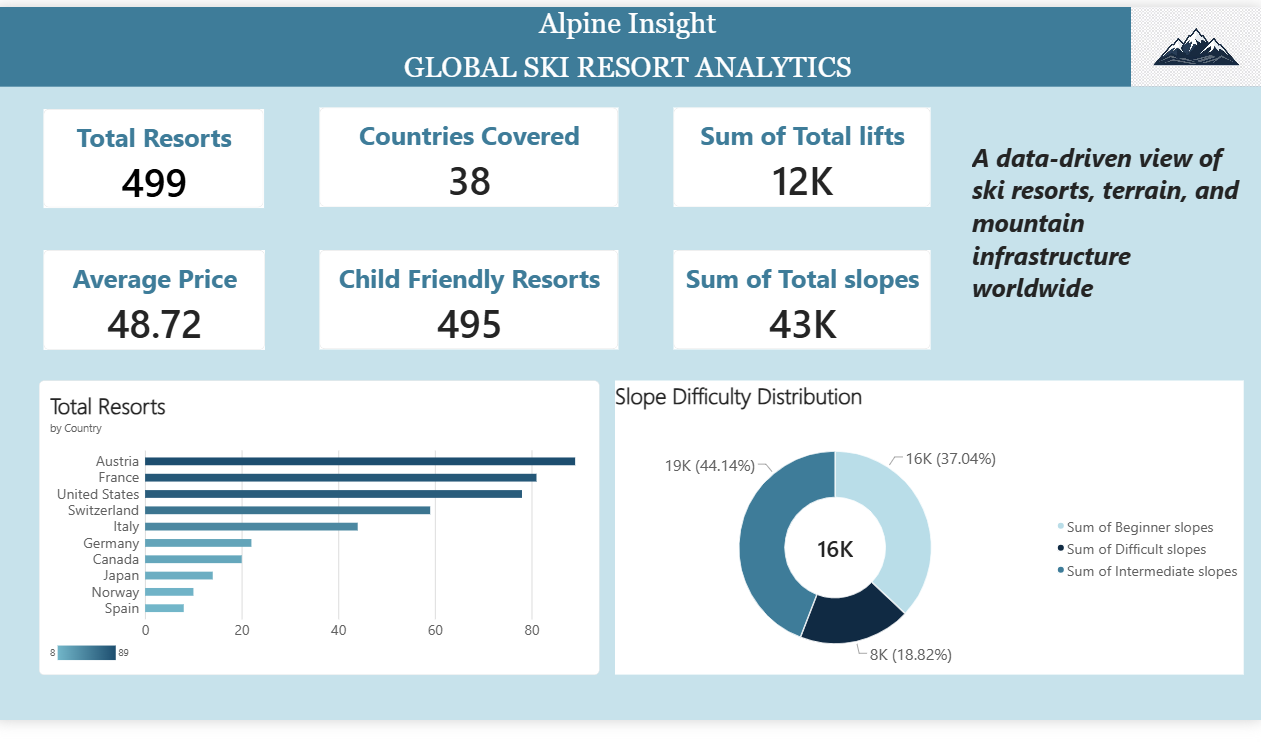

The page's visual inventory and layout, read from the dashboard file:
{"tool":"powerbi","page":{"name":"Overview","canvas":[1920,1080],"ordinal":0},"visuals":[{"type":"textbox","box":[0,0,1919.3,120.4],"z":0},{"type":"image","box":[1721.7,0,197.6,120.4],"z":1000},{"type":"cardVisual","fields":{"Data":["data_dictionary.Countries Covered"]},"box":[492,153.1,452.7,150.9],"z":3000},{"type":"cardVisual","fields":{"Data":["Sum(resorts.Total slopes)"]},"box":[1027.8,367.4,389.2,150.9],"z":4000},{"type":"cardVisual","fields":{"Data":["Sum(resorts.Total lifts)"]},"box":[1027.8,153.1,389.2,150.9],"z":5000},{"type":"cardVisual","fields":{"Data":["resorts.Average Price"]},"box":[74.4,367.4,335,151],"z":6000},{"type":"cardVisual","fields":{"Data":["resorts.Child Friendly Resorts"]},"box":[492.2,367.4,452.7,150.9],"z":7000},{"type":"clusteredBarChart","fields":{"Category":["resorts.Country"],"Y":["resorts.Total Resorts"]},"box":[67.8,566.4,848.5,446.1],"z":8000},{"type":"donutChart","title":"Slope Difficulty Distribution","fields":{"Y":["Sum(resorts.Beginner slopes)","Sum(resorts.Difficult slopes)","Sum(resorts.Intermediate slopes)"]},"box":[940.3,565.6,951.7,445.2],"z":9000},{"type":"textbox","box":[1480.9,202.1,411.1,315.7],"z":10000},{"type":"cardVisual","fields":{"Data":["resorts.Total Resorts"]},"box":[75,154.4,333.9,149.9],"z":12000}]}

Visuals, with their boxes on the page's 1920x1080 design canvas (x1, y1, x2, y2). These are canvas units, not pixel positions in the 1261x753 screenshot, which may show the page scaled, cropped or inside an application window:
textbox: (x1=0, y1=0, x2=1919, y2=120)
image: (x1=1722, y1=0, x2=1919, y2=120)
cardVisual - data_dictionary.Countries Covered: (x1=492, y1=153, x2=945, y2=304)
cardVisual - Sum(resorts.Total slopes): (x1=1028, y1=367, x2=1417, y2=518)
cardVisual - Sum(resorts.Total lifts): (x1=1028, y1=153, x2=1417, y2=304)
cardVisual - resorts.Average Price: (x1=74, y1=367, x2=409, y2=518)
cardVisual - resorts.Child Friendly Resorts: (x1=492, y1=367, x2=945, y2=518)
clusteredBarChart - resorts.Country x resorts.Total Resorts: (x1=68, y1=566, x2=916, y2=1012)
"Slope Difficulty Distribution" donutChart: (x1=940, y1=566, x2=1892, y2=1011)
textbox: (x1=1481, y1=202, x2=1892, y2=518)
cardVisual - resorts.Total Resorts: (x1=75, y1=154, x2=409, y2=304)
